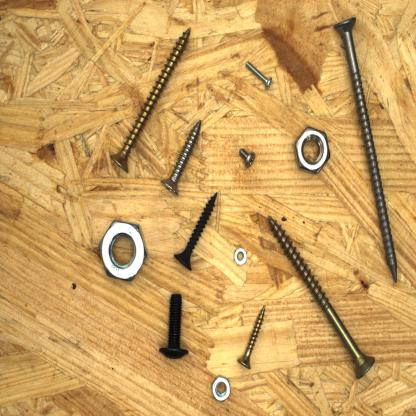screw: (265, 211, 378, 382), (331, 13, 400, 287), (106, 24, 194, 178), (170, 188, 221, 274), (158, 115, 205, 200), (157, 289, 191, 364), (235, 302, 269, 373), (244, 58, 274, 92), (237, 145, 258, 171)
